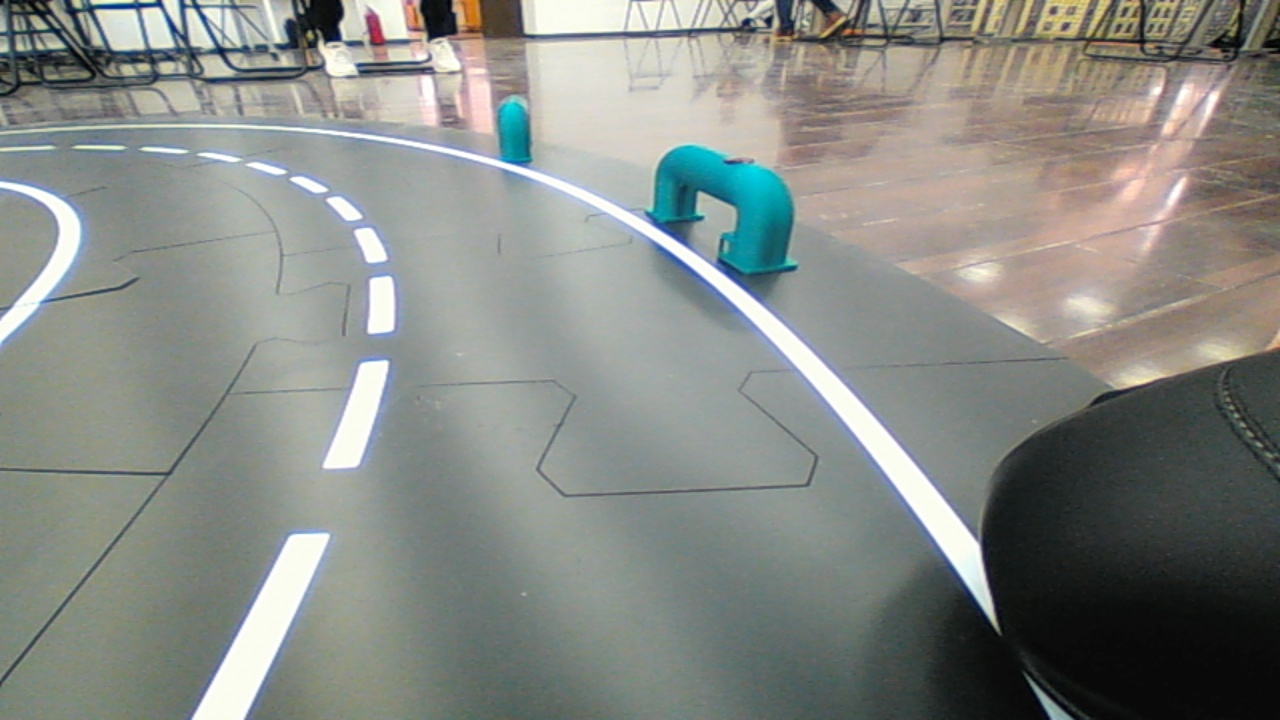Pedestrian crossing: (637, 122, 811, 279)
